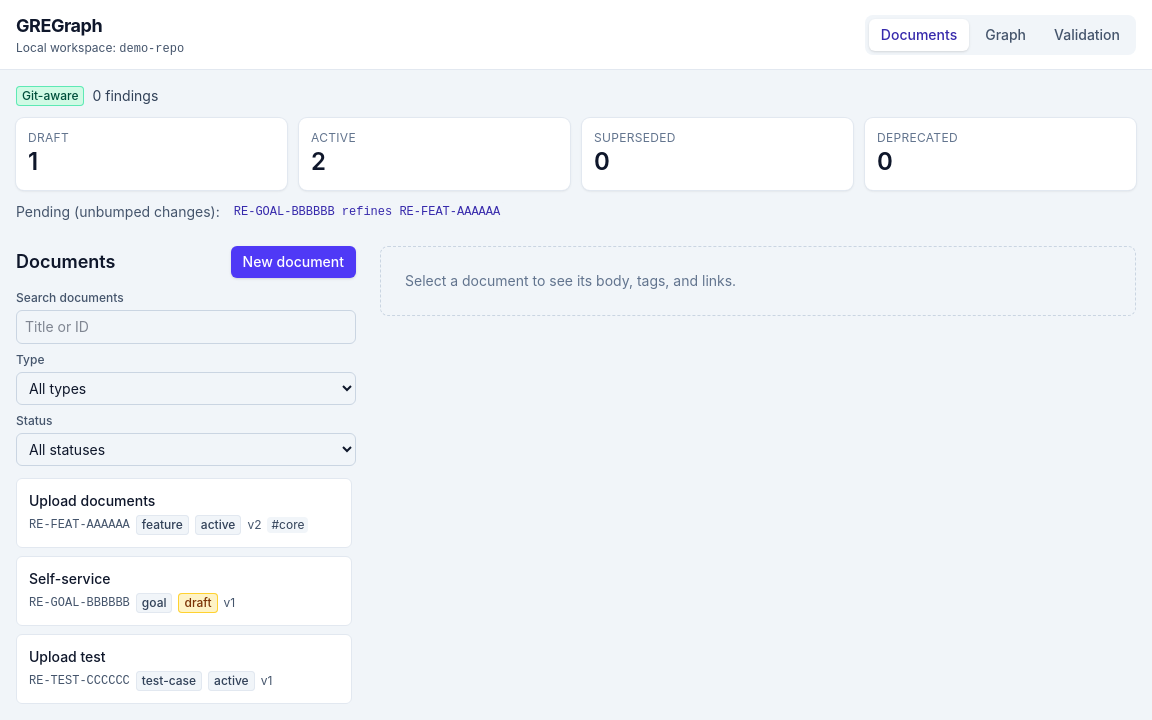
Test case: App documents › loads the selected document detail with inbound and outbound links
Click the button "Upload documents RE-FEAT-AAAAAA feature active v2 #core".
click(184, 513)  # box [16,478,352,548]
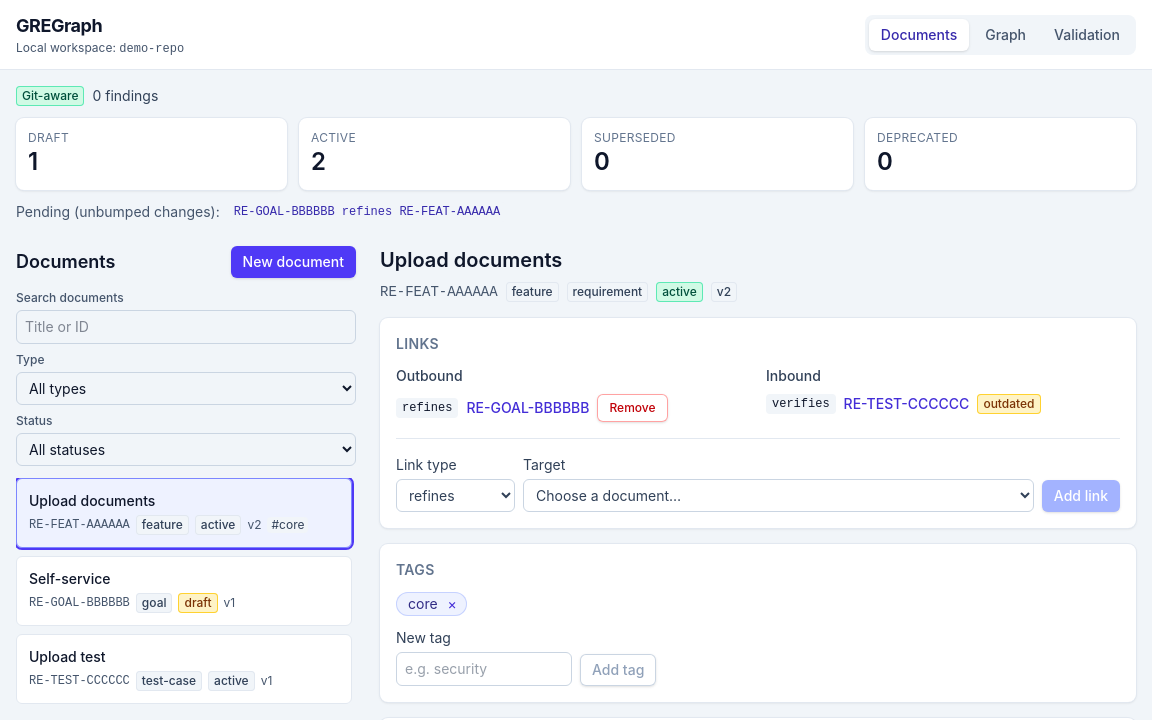
Check: the heading "Upload documents" is shown, box [380,248,562,272]
Check: the list named "Outbound links" is shown, box [396,394,668,422]
Check: the list named "Inbound links" is shown, box [766,394,1040,414]
